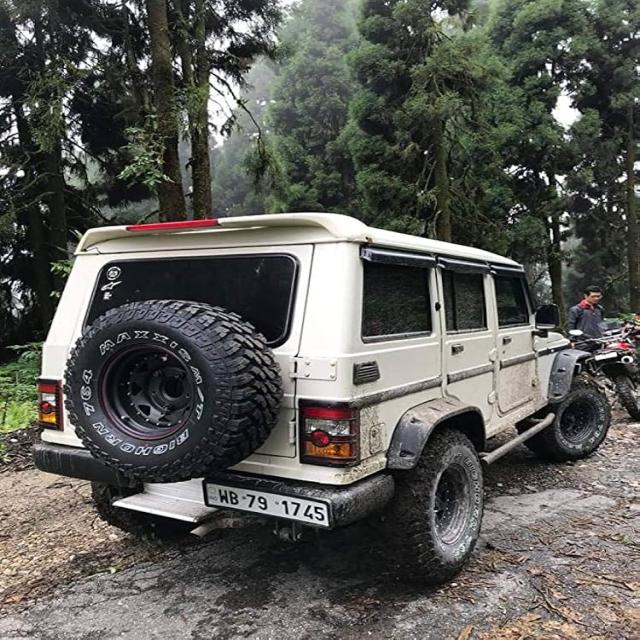light_vehicle: (31, 217, 612, 577)
person: (567, 277, 618, 343)
